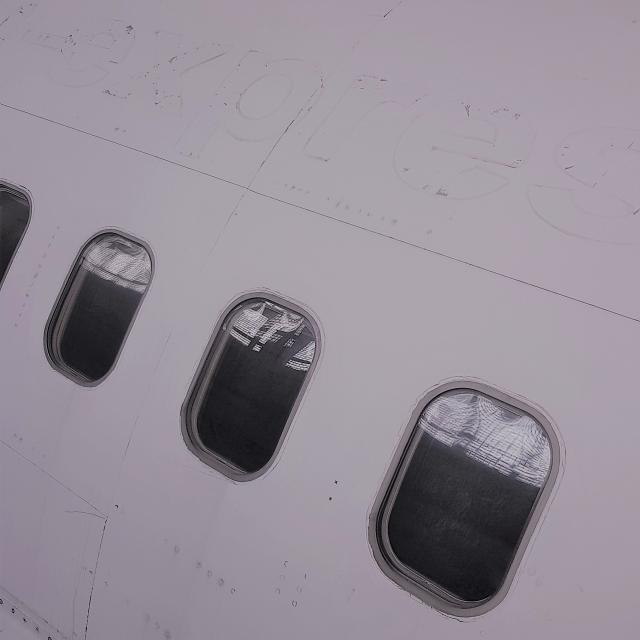crack: (66, 508, 108, 522)
